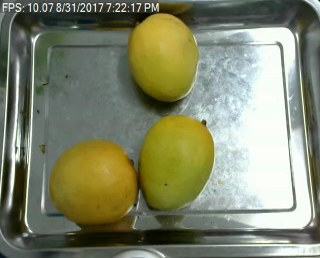Mango: (135, 115, 216, 211), (49, 138, 136, 225), (128, 11, 199, 101)
